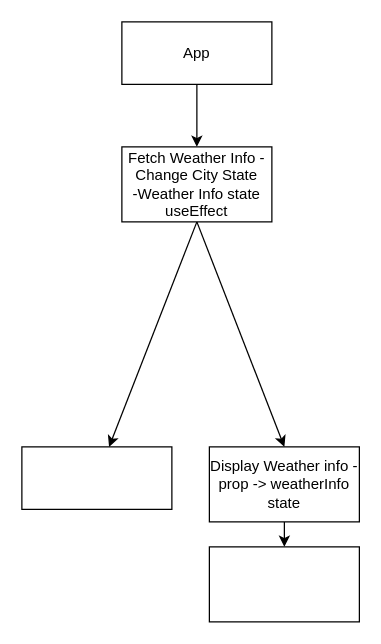
Some shapes in this 381 by 644 pixel diagram are drawn without their labels. The box of each missing label's shape, as (x1, y1, x2, y2) in pixels:
Accuracy counter -> thumbs up and thumb down from component library: (208, 546, 359, 622)
User input - input field and a submit button: (21, 446, 172, 509)
